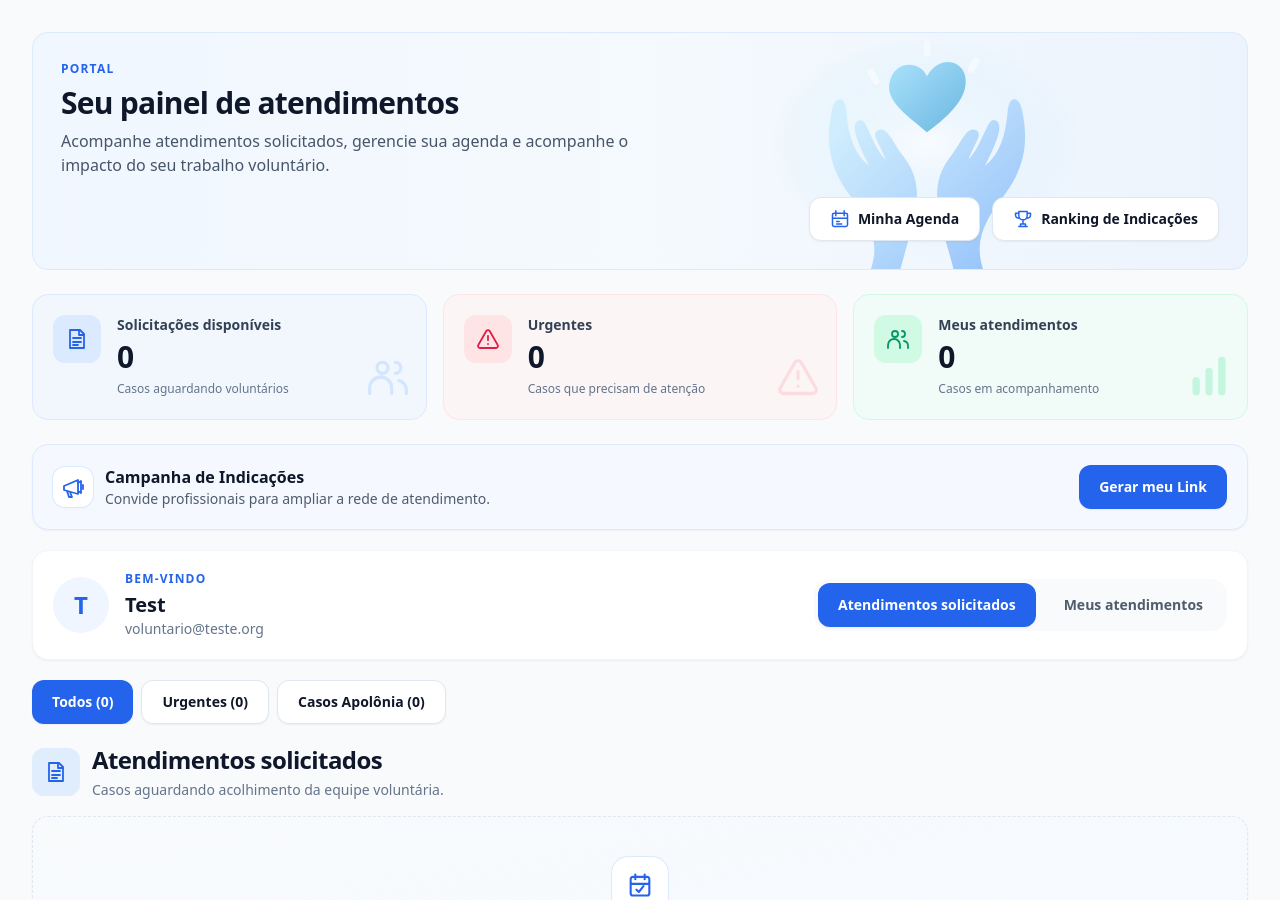
Test: PortalVoluntario › deve gerar o codigo e exibir o link apos clicar no botao
The width and height of the screenshot is (1280, 900).
Click the button "Gerar meu Link" at (1153, 487), box [1079,465,1227,509]
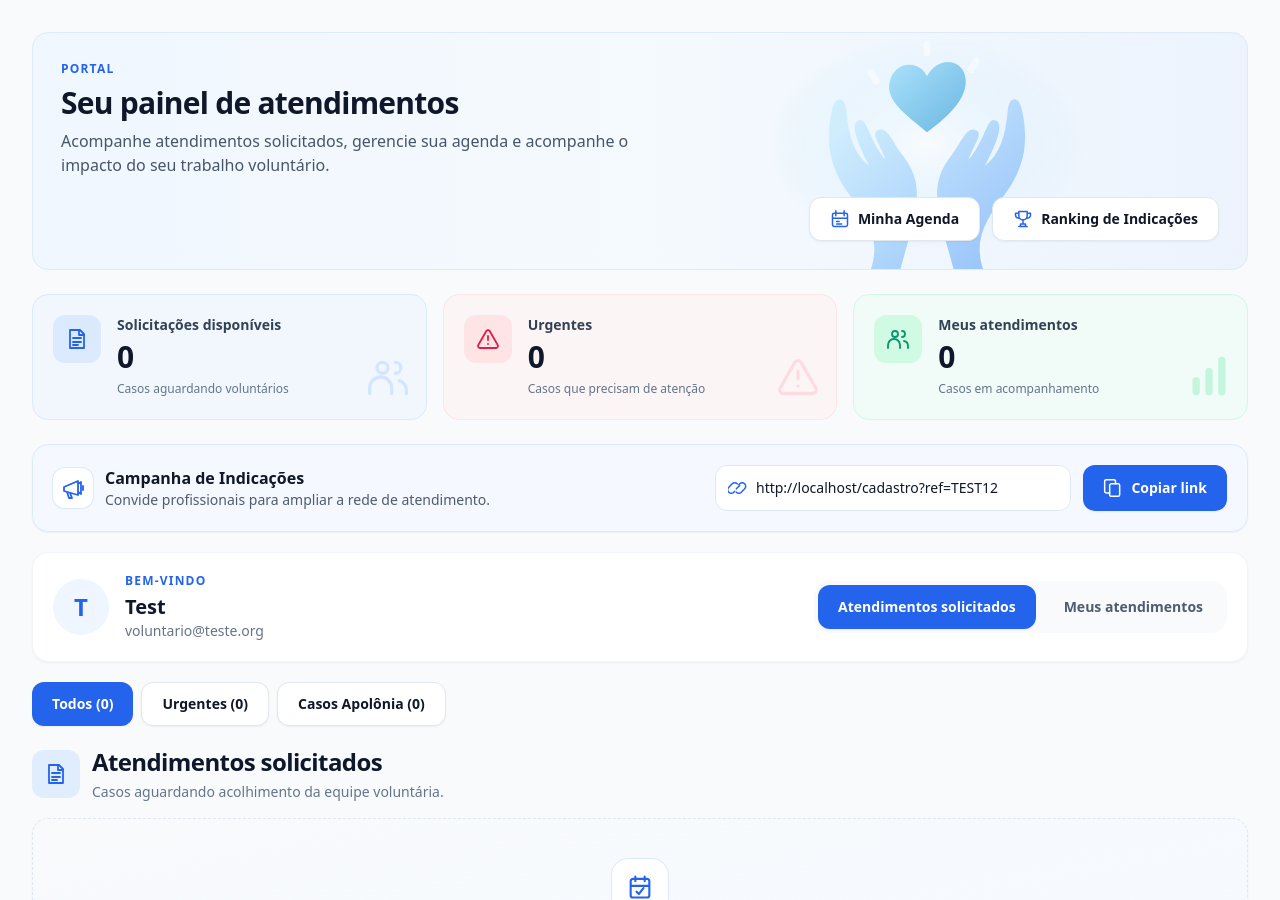
Expected: the field showing "cadastro?ref=TEST12" is shown, [756,466,1070,510]
